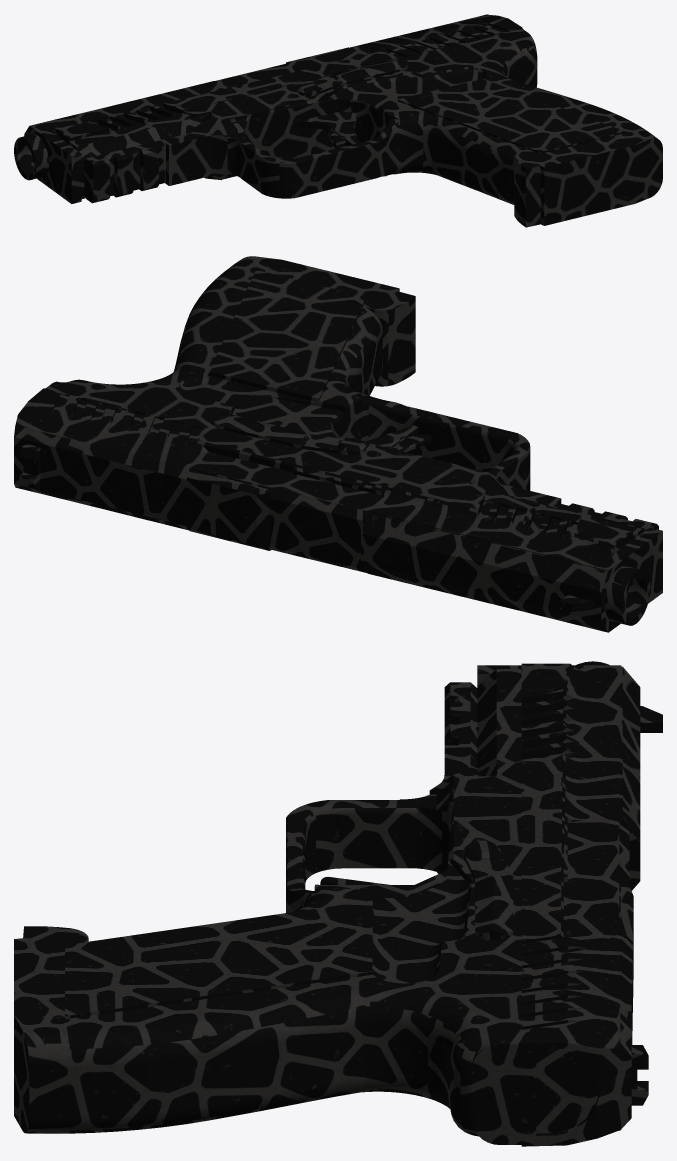
The model's file is Pistol2.glb.
3 renders of one model, top to bottom at view 1: azimuth 30°, elevation 25°; view 2: azimuth 150°, elevation 25°; view 3: azimuth 270°, elevation 25°, orthographic. The views are drawn at different scales.
Visible parts, largest first — view 1: pistol01; view 2: pistol01; view 3: pistol01.
Boxes of the visible parts, x1,y1,x2,y2 form: pistol01: (14,14,662,227); pistol01: (14,256,662,632); pistol01: (14,661,662,1146).
Bounding box in the file's own units: 83.44 × 10.8 × 57.28.
1 material, 1 textured.
